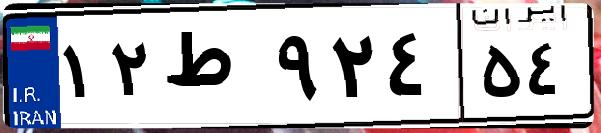1: (57, 26, 110, 100)
2: (330, 28, 385, 110), (110, 28, 158, 98)
4: (385, 28, 445, 110), (525, 38, 570, 115)
5: (475, 38, 525, 113)
9: (270, 28, 330, 110)
ط: (158, 20, 270, 120)
